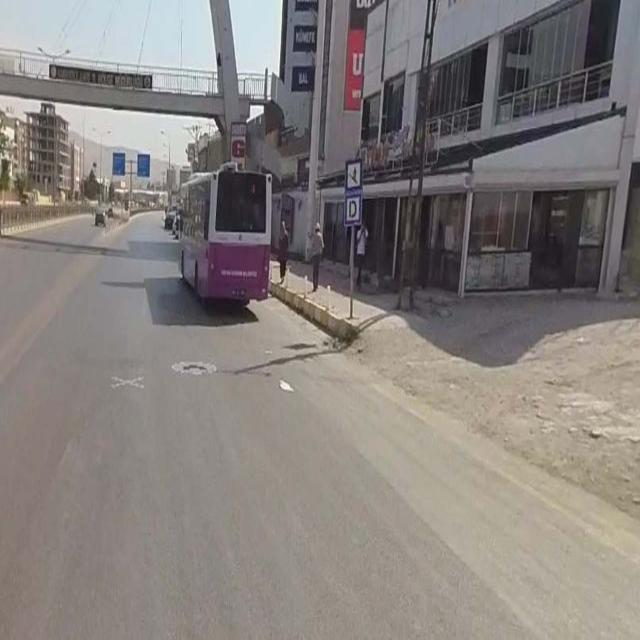durak: (343, 194, 362, 226)
